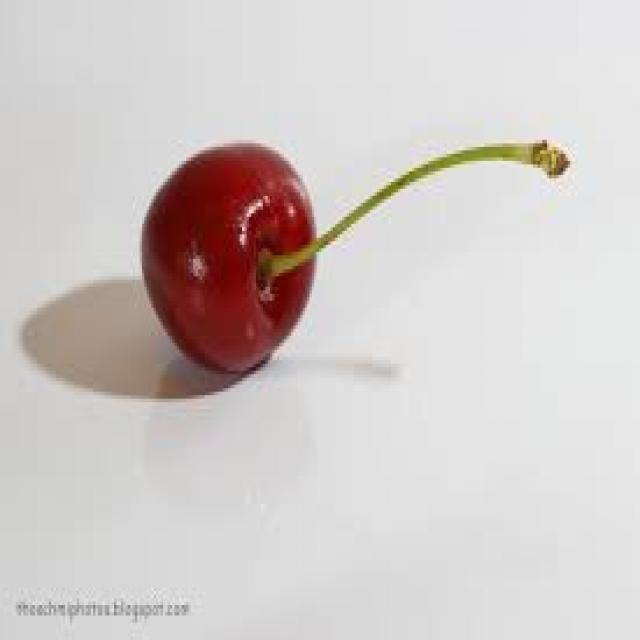organic waste: (138, 140, 316, 374)
